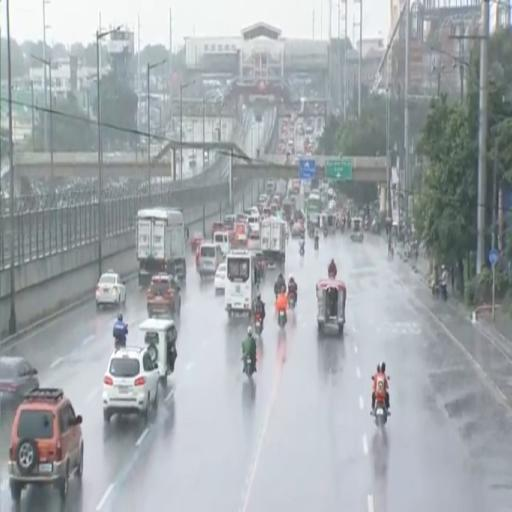car: (9, 389, 83, 505), (103, 346, 158, 422), (0, 357, 39, 409), (147, 274, 181, 317), (96, 270, 126, 308), (215, 263, 226, 294), (291, 221, 305, 237)
motorcycle: (373, 394, 389, 426), (374, 398, 388, 426), (243, 356, 254, 378), (255, 314, 263, 335), (278, 310, 287, 328), (439, 283, 447, 300), (288, 293, 296, 310), (114, 338, 125, 349), (328, 271, 336, 280), (300, 244, 305, 255), (341, 220, 345, 233), (314, 237, 318, 250), (323, 227, 327, 237)
truck: (137, 207, 186, 286), (260, 217, 285, 268)
